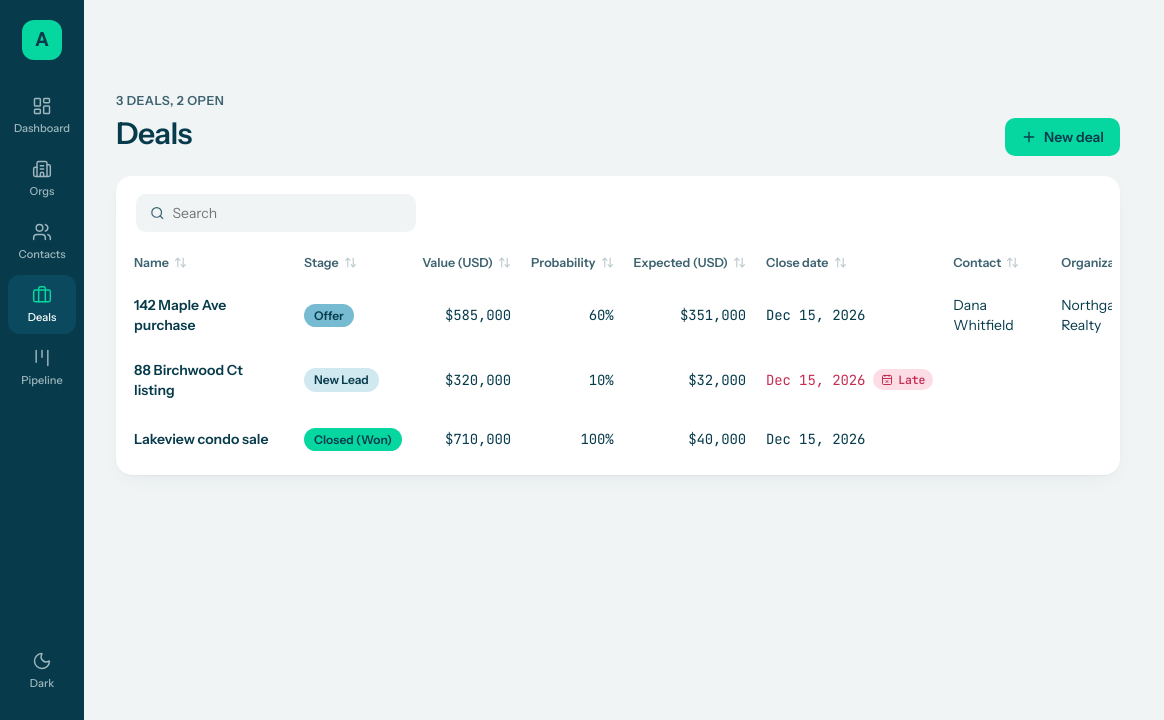
the deals list › opens a deal's page from the list
Click the link "142 Maple Ave purchase".
click(180, 305)  # box [134,296,226,334]
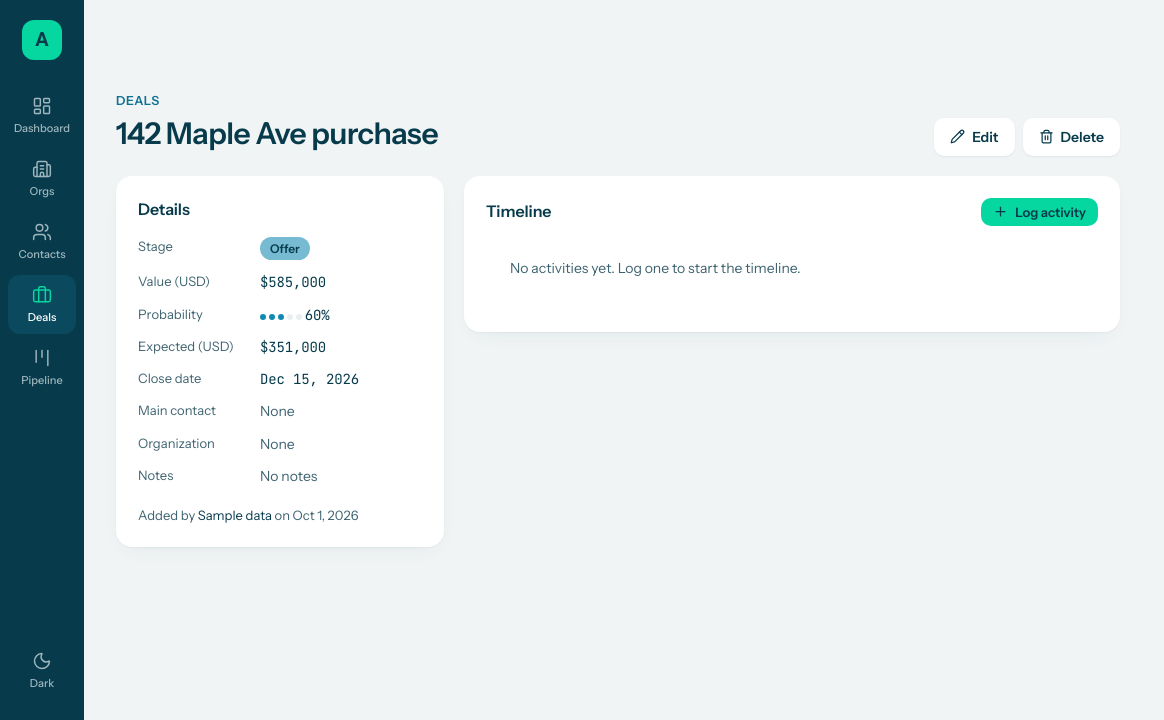
Check: the heading "142 Maple Ave purchase" is shown, box [116,112,438,156]
